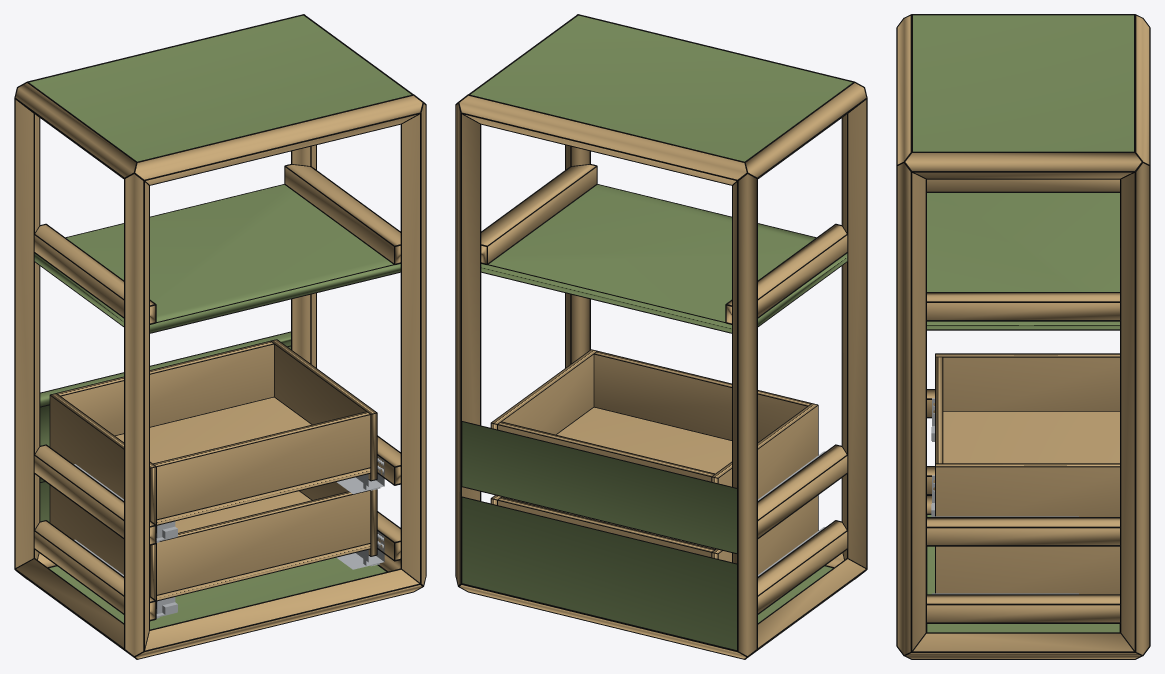
Rendered from 004-commode.glb.
The picture shows the model from 3 angles, left to right: view 1: azimuth 30°, elevation 25°; view 2: azimuth 150°, elevation 25°; view 3: azimuth 270°, elevation 25°; orthographic projection. The views are drawn at different scales.
Parts seen in each view (by area): view 1: panneau-dessus_exterieur, tablette-plate-mod-0, drawer-box-avant-mod-2, drawer-box-avant-mod-1, arete-Z0, arete-Z1, arete-Z2, drawer-box-arriere-mod-2, arete-X2, arete-X0, drawer-box-dessous-mod-2, panneau-dessous (+35 smaller); view 2: panneau-dessus_exterieur, tablette-plate-mod-0, drawer-box-facade-mod-1, drawer-box-facade-mod-2, arete-Z0, arete-Z2, drawer-box-avant-mod-2, arete-Z3, arete-X3, drawer-box-dessous-mod-2, drawer-box-joue_d-mod-2, tablette-traverse-right-mod-0 (+30 smaller); view 3: panneau-dessus_exterieur, tablette-plate-mod-0, arete-Z1, arete-Z3, drawer-box-joue_g-mod-2, drawer-box-joue_d-mod-2, drawer-box-dessous-mod-2, drawer-box-joue_d-mod-1, arete-Y3, arete-Y1, drawer-tr-drawer-traverse-right-mod-1, tablette-traverse-right-mod-0 (+20 smaller).
Part boxes in pixels (x1,y1,x2,y2): panneau-dessus_exterieur: [29, 15, 411, 161]; tablette-plate-mod-0: [34, 184, 400, 332]; drawer-box-avant-mod-2: [154, 412, 370, 519]; drawer-box-avant-mod-1: [157, 491, 370, 594]; arete-Z0: [125, 174, 148, 655]; arete-Z1: [402, 104, 425, 584]; arete-Z2: [15, 100, 39, 567]; drawer-box-arriere-mod-2: [57, 341, 273, 435]; arete-X2: [135, 95, 422, 184]; arete-X0: [136, 570, 421, 658]; drawer-box-dessous-mod-2: [115, 397, 370, 524]; panneau-dessous: [49, 557, 385, 629]; panneau-dessus_exterieur: [470, 15, 852, 161]; tablette-plate-mod-0: [481, 184, 847, 332]; drawer-box-facade-mod-1: [462, 497, 736, 649]; drawer-box-facade-mod-2: [462, 422, 736, 552]; arete-Z0: [842, 100, 866, 567]; arete-Z2: [733, 174, 756, 655]; drawer-box-avant-mod-2: [594, 351, 810, 441]; arete-Z3: [456, 104, 479, 584]; arete-X3: [459, 95, 746, 184]; drawer-box-dessous-mod-2: [557, 407, 731, 473]; drawer-box-joue_d-mod-2: [491, 350, 595, 434]; tablette-traverse-right-mod-0: [481, 165, 596, 263]; panneau-dessus_exterieur: [913, 15, 1133, 151]; tablette-plate-mod-0: [927, 193, 1119, 329]; arete-Z1: [897, 163, 925, 654]; arete-Z3: [1121, 163, 1149, 654]; drawer-box-joue_g-mod-2: [936, 354, 1119, 410]; drawer-box-joue_d-mod-2: [936, 464, 1119, 516]; drawer-box-dessous-mod-2: [943, 411, 1119, 463]; drawer-box-joue_d-mod-1: [936, 546, 1119, 594]; arete-Y3: [905, 153, 1141, 178]; arete-Y1: [906, 633, 1140, 658]; drawer-tr-drawer-traverse-right-mod-1: [927, 595, 1119, 622]; tablette-traverse-right-mod-0: [927, 293, 1119, 319].
Bounding box in the file's own units: 0.5238 × 0.8238 × 0.3738.
